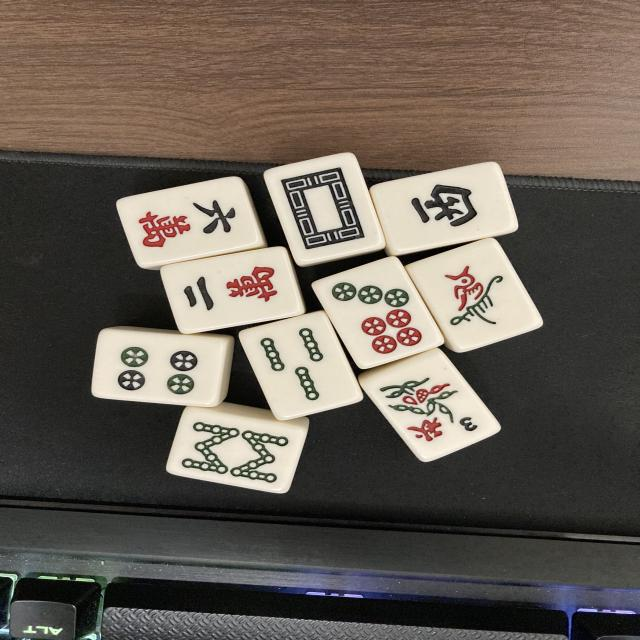bai: (264, 156, 384, 270)
ff3: (367, 358, 494, 462)
m2: (165, 248, 302, 332)
m6: (121, 178, 264, 266)
s1: (413, 242, 530, 352)
s3: (241, 314, 363, 421)
s8: (174, 414, 295, 488)
t4: (90, 328, 226, 406)
t7: (321, 256, 442, 371)
west: (374, 166, 503, 242)
